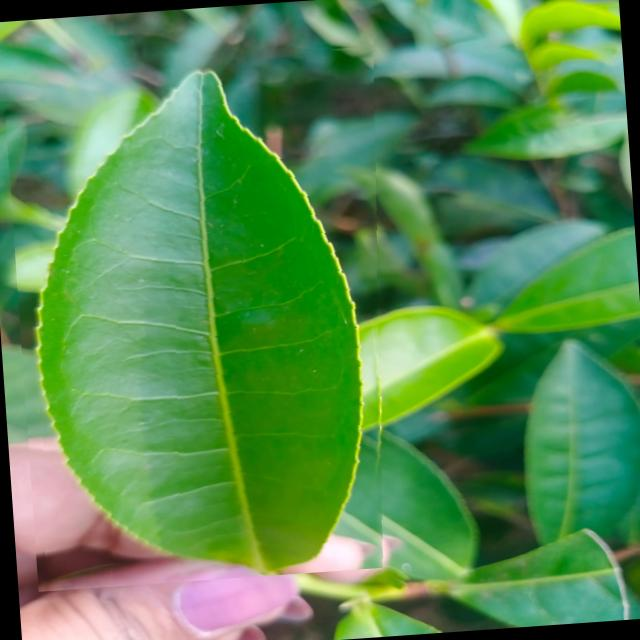Category D 7+ days, Not for Tea: (2, 41, 410, 592)
